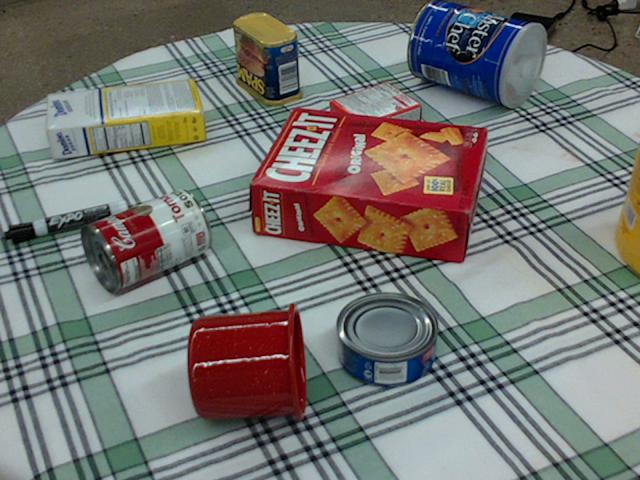cracker_box: (249, 105, 487, 260)
gelatin_box: (327, 78, 421, 144)
large_marker: (3, 199, 126, 243)
master_chef_can: (406, 0, 545, 106)
mug: (185, 298, 308, 421)
mustard_bottle: (615, 138, 639, 273)
potted_meat_can: (232, 12, 302, 104)
sugar_box: (46, 79, 205, 157)
tomato_soup_can: (80, 186, 210, 291)
tuna_fish_can: (336, 291, 439, 387)
